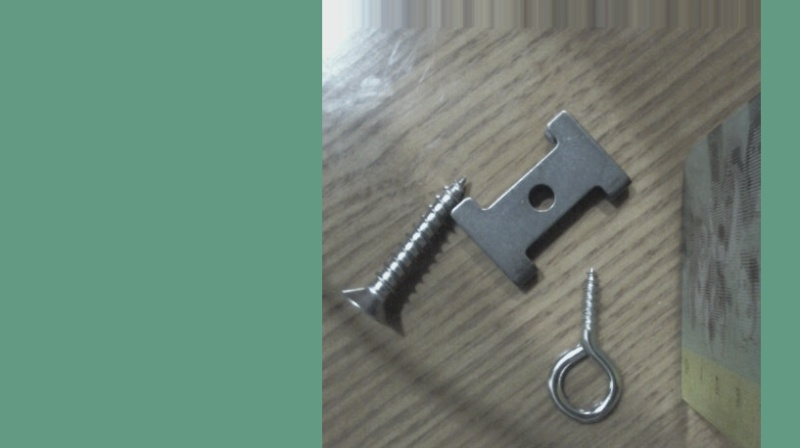O001: (543, 266, 626, 428)
O002: (446, 107, 634, 294)
S001: (339, 174, 473, 331)
